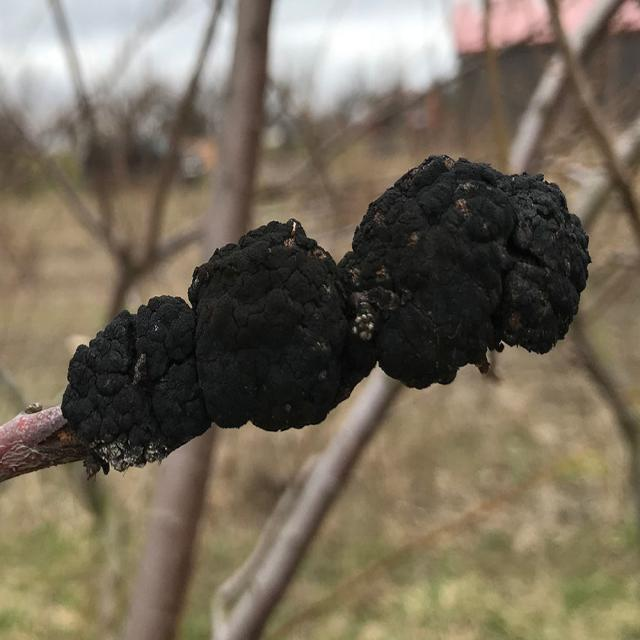Black_knot: (60, 151, 592, 477), (342, 151, 592, 390), (187, 216, 366, 433), (60, 292, 210, 476)
